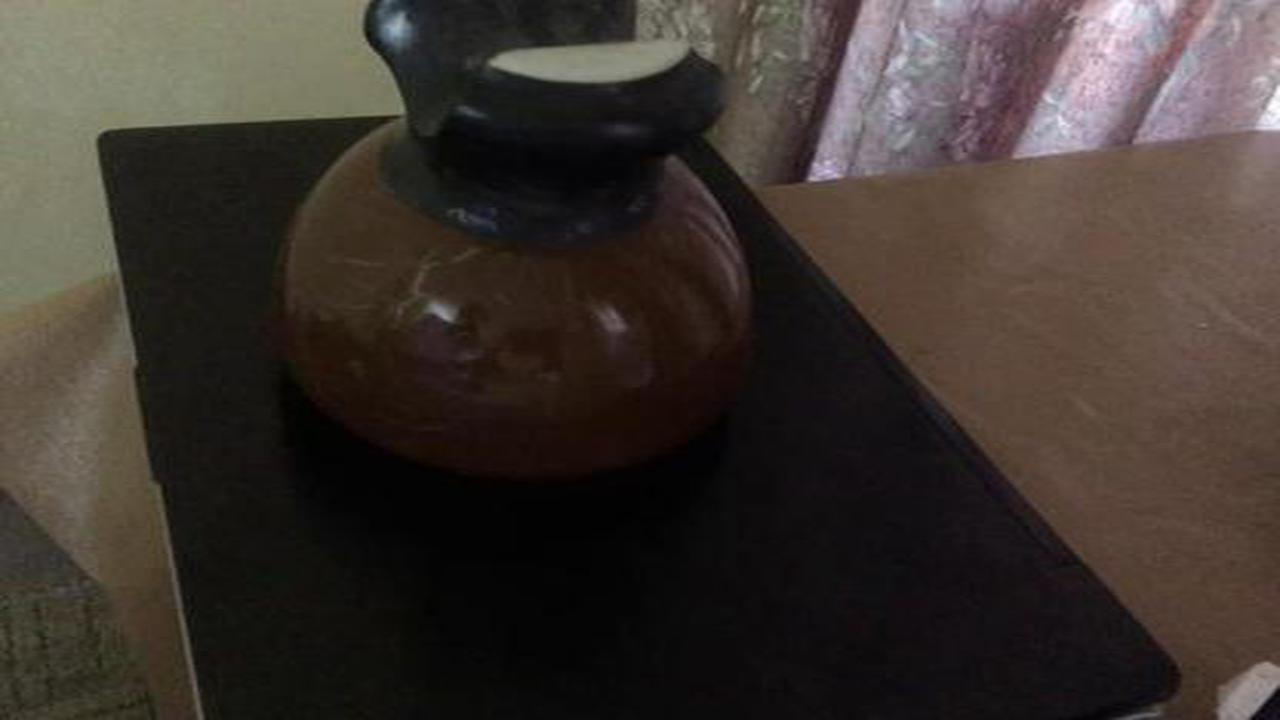insulator_pin: (247, 1, 770, 504)
